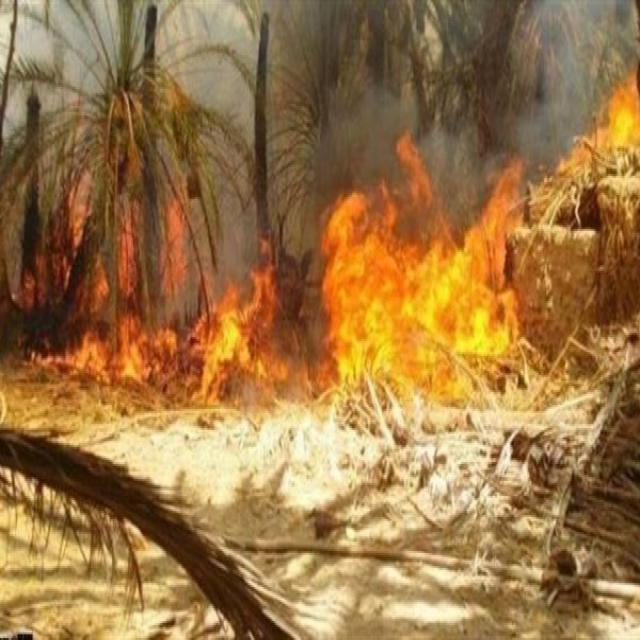Fire: (320, 136, 525, 400), (197, 258, 279, 409), (22, 318, 177, 394), (160, 176, 196, 299), (601, 76, 640, 155)
